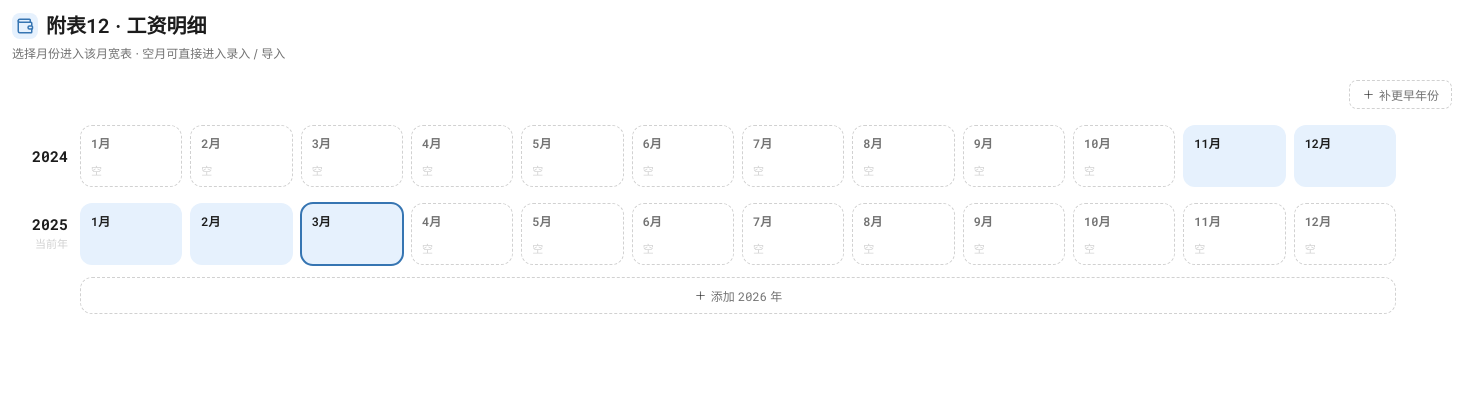
Scenario: 附表12 · 一层选期门 › ❗「添加次年」也接上了
Click the button with class "bmm-addbtn". click: (738, 296)
box: [80,277,1396,314]
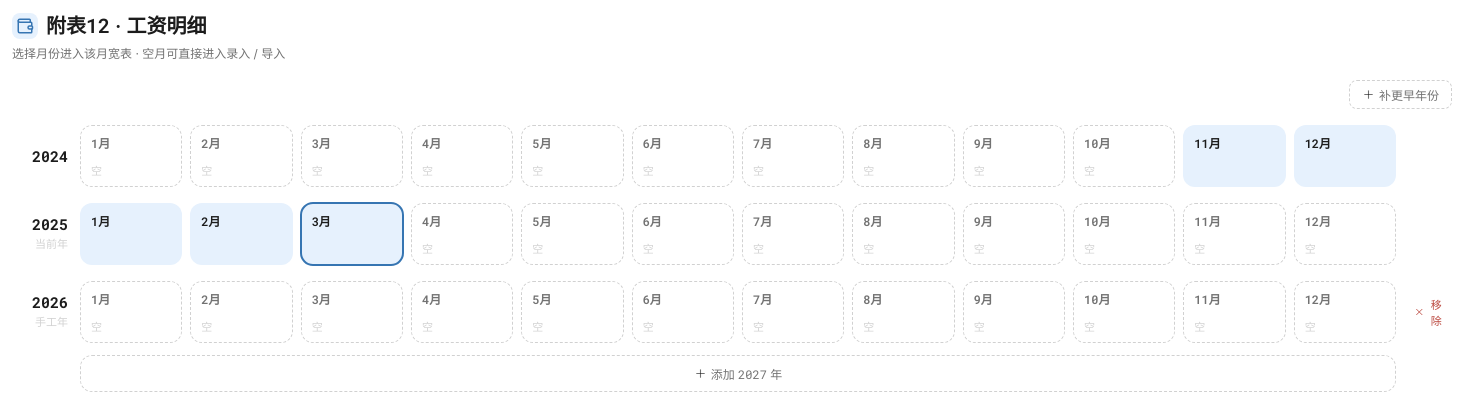
Expected: the elements with class "bmm-y" read "2024", "2025", "2026", in this order, [32,146,68,166]; [32,214,68,234]; [32,292,68,312]
